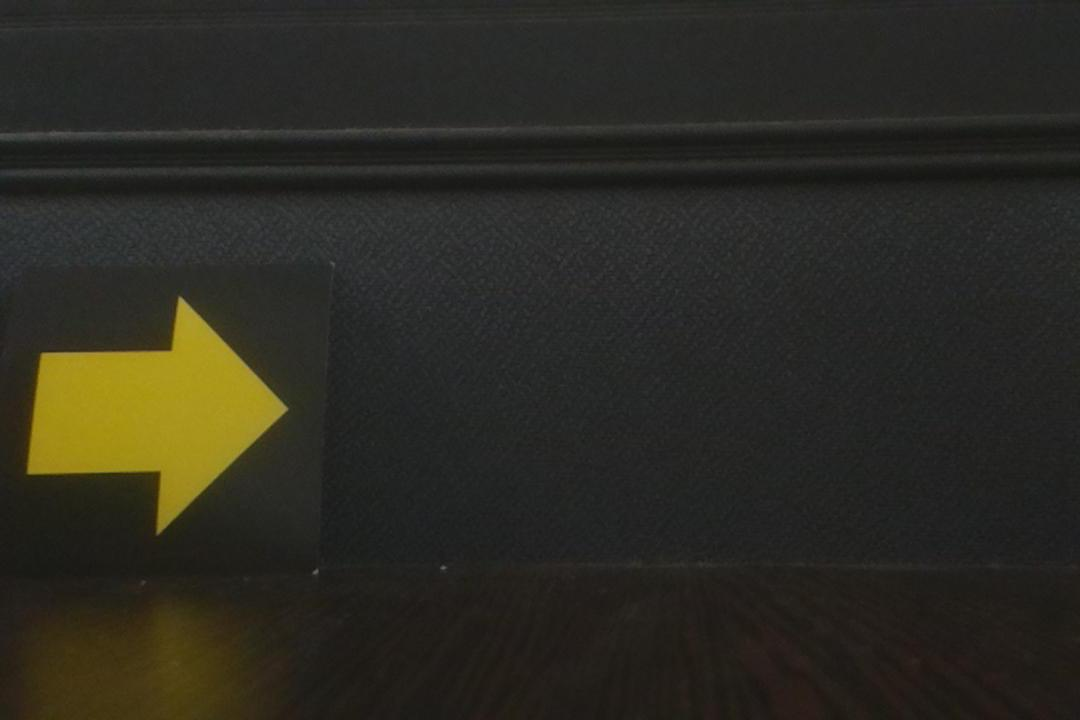right_arrow: (1, 268, 331, 576)
